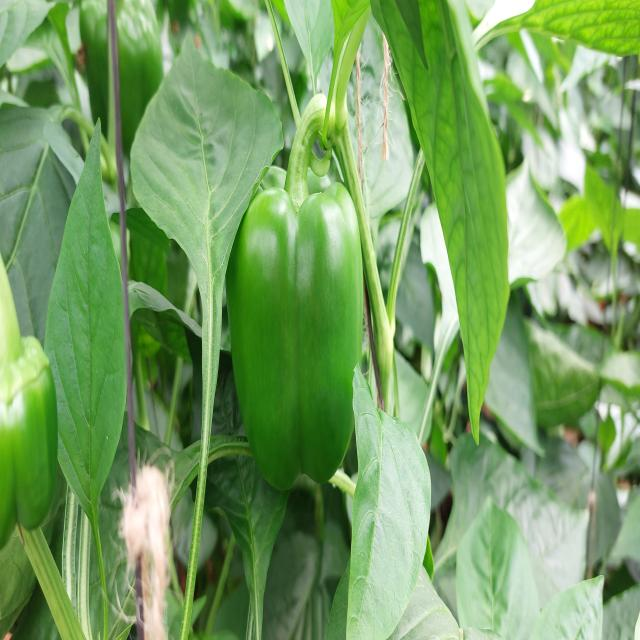Green--Not-ready-to-harvest: (231, 172, 371, 504), (1, 329, 62, 531)
